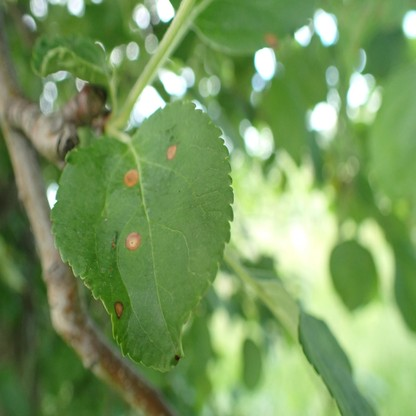frogeye_leaf_spot: (124, 232, 140, 251), (124, 169, 138, 187), (264, 35, 278, 48), (166, 144, 177, 160), (114, 301, 123, 318)
